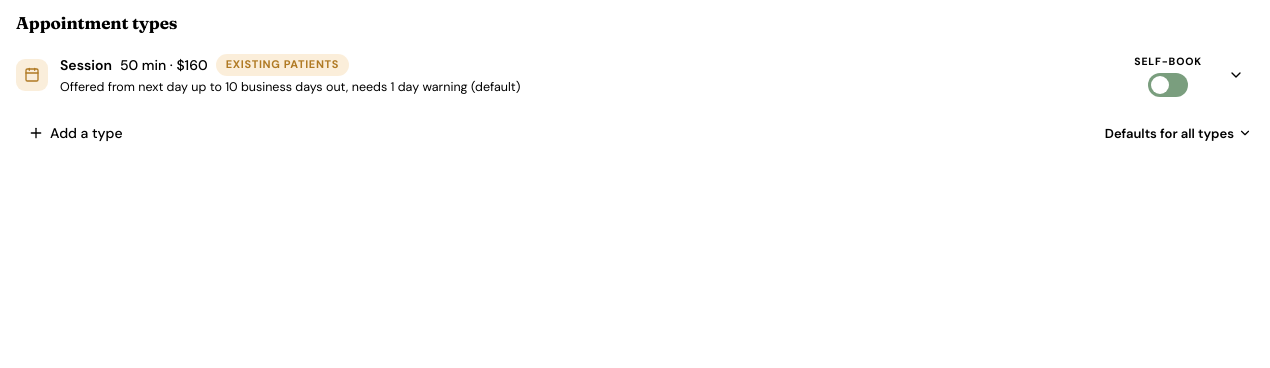
it: AppointmentTypesCard — booking controls › names the cutoffs with the clinician's own word
Click the button "Defaults for all types". click: (1178, 133)
box: [1105, 124, 1252, 143]
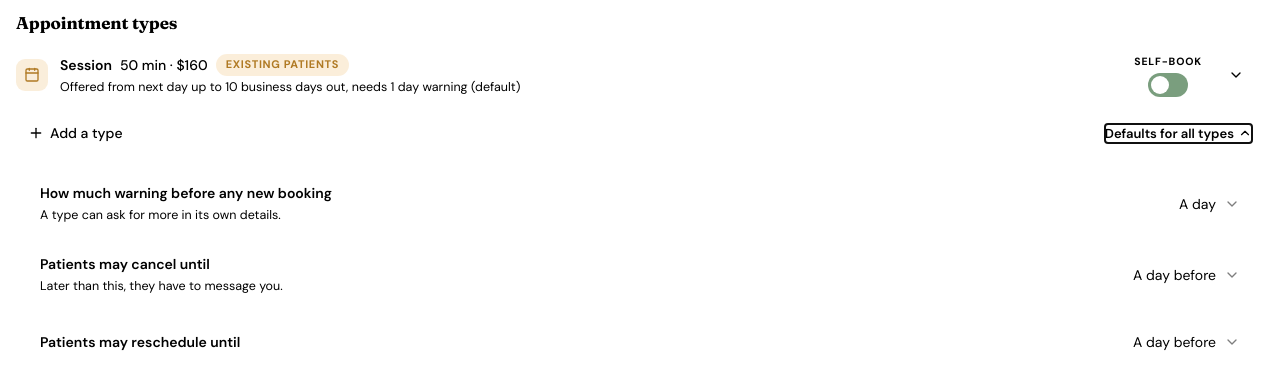
expect the text "Patients may cancel until" is shown: met, box [40, 255, 210, 273]
expect the text "Patients may reschedule until" is shown: met, box [40, 332, 240, 352]
